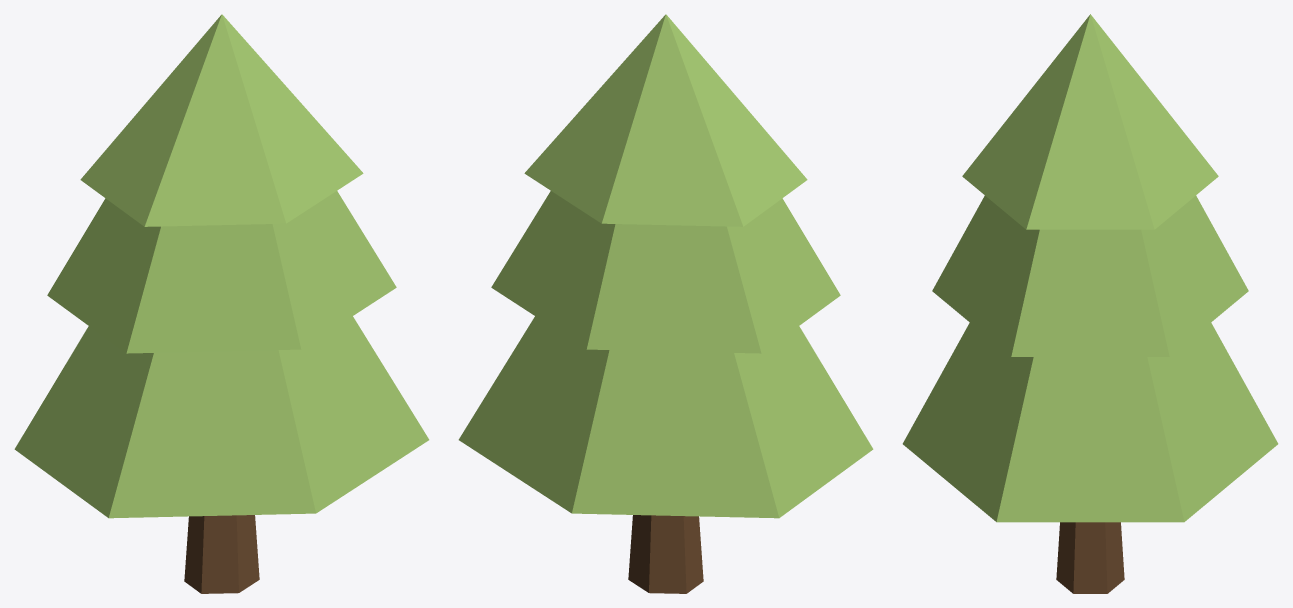
The model's file is Tree_AutumnLight_Small.fbx.
The picture shows the model from 3 angles, left to right: view 1: azimuth 30°, elevation 25°; view 2: azimuth 150°, elevation 25°; view 3: azimuth 270°, elevation 25°; orthographic projection.
Visible parts, largest first — view 1: Tree_AutumnLight_Small; view 2: Tree_AutumnLight_Small; view 3: Tree_AutumnLight_Small.
Part boxes in pixels (x1=…): Tree_AutumnLight_Small: x1=14, y1=14, x2=429, y2=593; Tree_AutumnLight_Small: x1=458, y1=14, x2=873, y2=593; Tree_AutumnLight_Small: x1=902, y1=14, x2=1278, y2=593.
Size of the model in its own units: 105 by 177 by 106.
